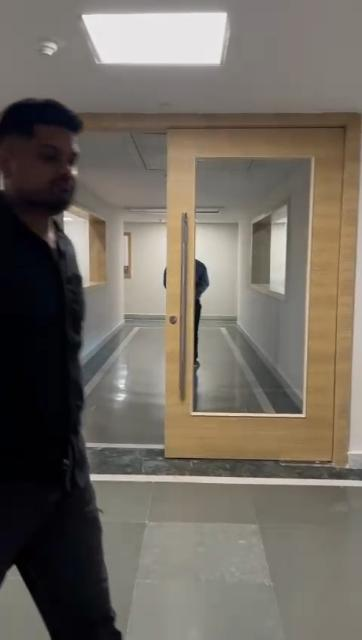door: (160, 118, 350, 464)
floor: (88, 316, 358, 640)
moving-obj: (0, 86, 154, 640)
